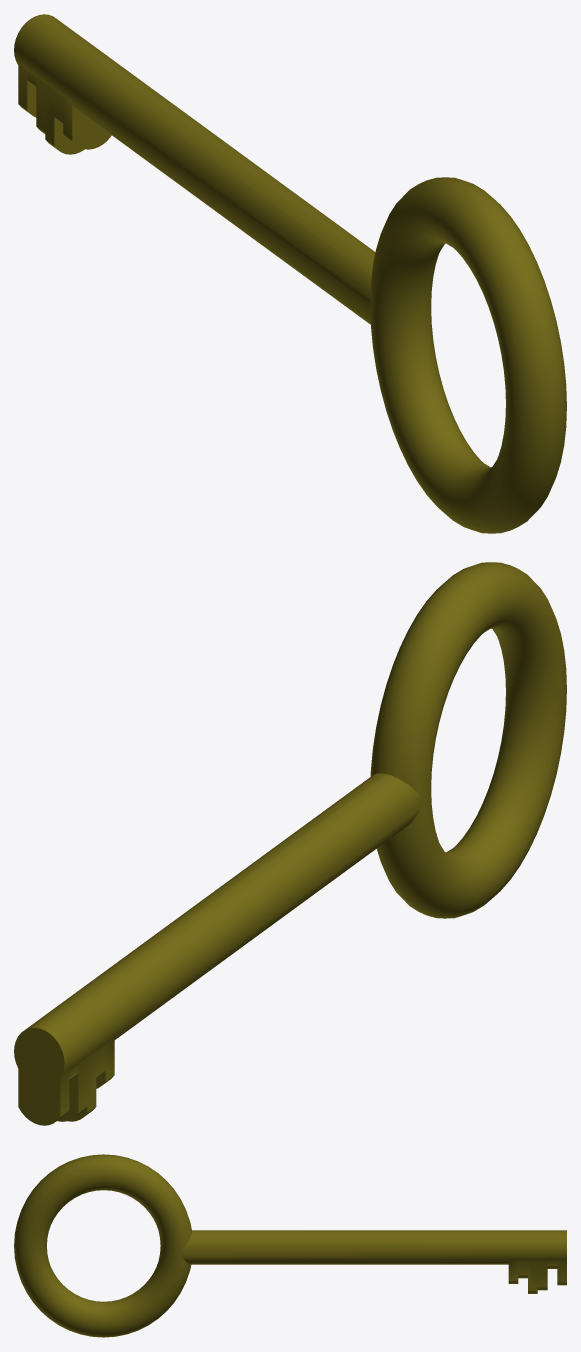
Rendered from chave dourada.fbx.
3 renders of one model, top to bottom at view 1: azimuth 30°, elevation 25°; view 2: azimuth 150°, elevation 25°; view 3: azimuth 270°, elevation 25°, orthographic. The views are drawn at different scales.
Visible parts, largest first — view 1: BézierCircle.001; view 2: BézierCircle.001; view 3: BézierCircle.001.
Boxes of the visible parts, x1,y1,x2,y2 form: BézierCircle.001: (14, 14, 566, 533); BézierCircle.001: (14, 562, 566, 1125); BézierCircle.001: (14, 1154, 566, 1337).
Size of the model in its own units: 1.5 by 9 by 25.
